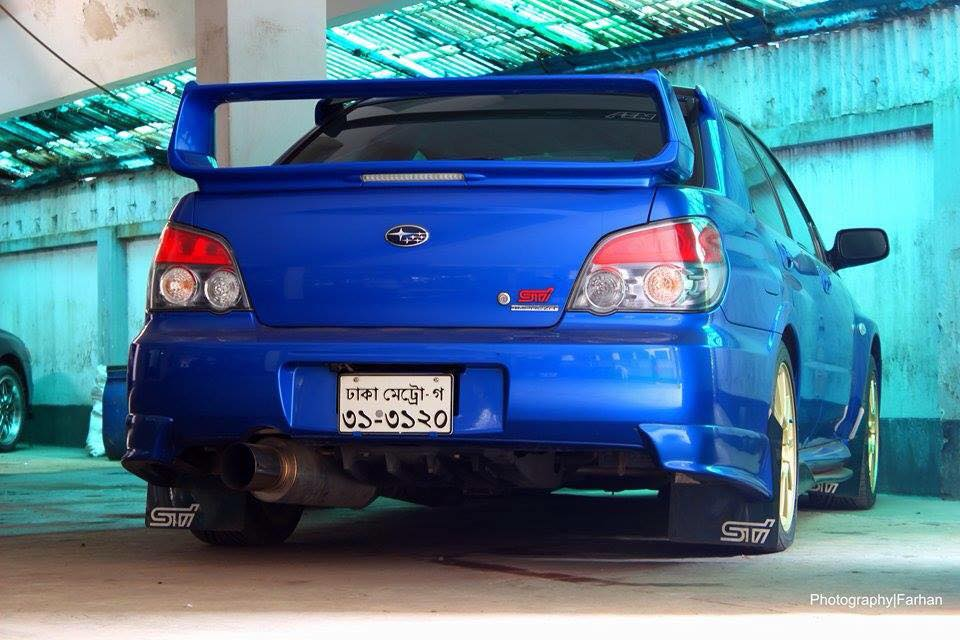registration_plate: (337, 371, 455, 437)
